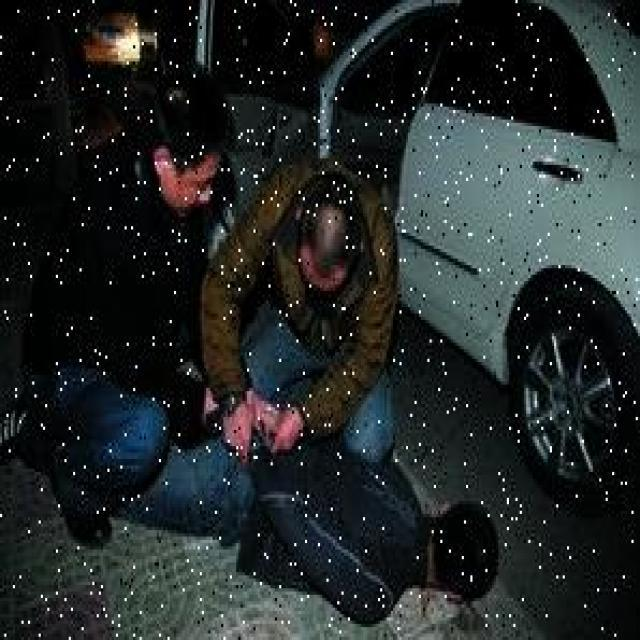fall: (198, 398, 500, 618)
